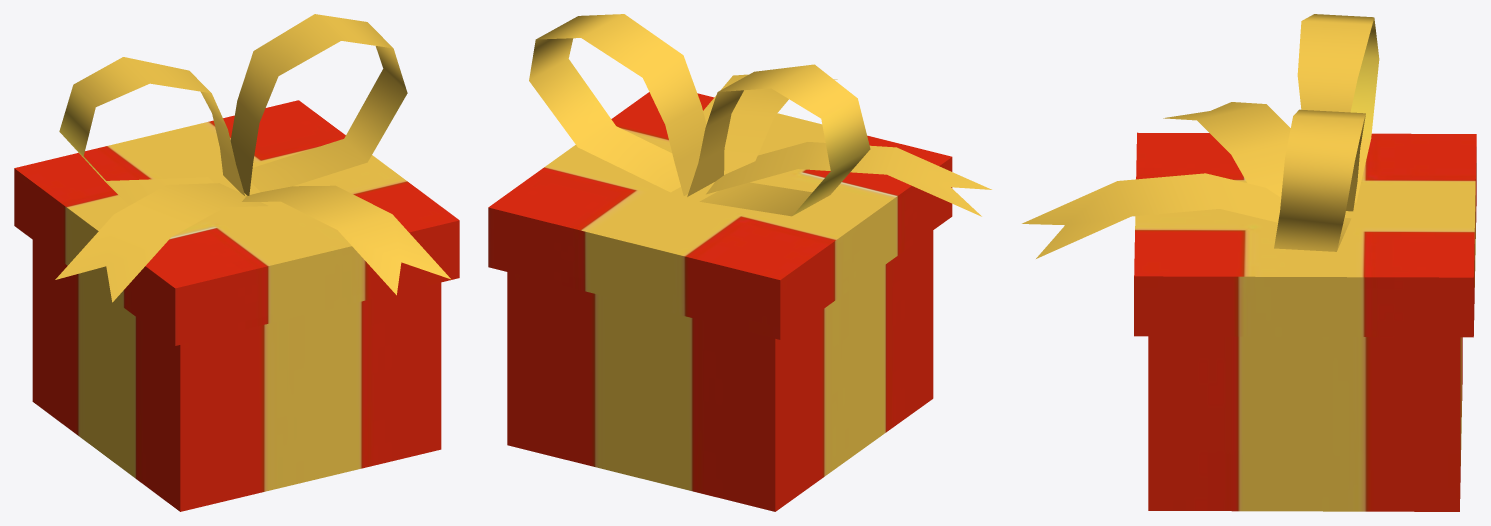
File: pm-present-01.glb
3 renders of one model, left to right at view 1: azimuth 30°, elevation 25°; view 2: azimuth 150°, elevation 25°; view 3: azimuth 270°, elevation 25°, orthographic. The views are drawn at different scales.
Visible parts, largest first — view 1: Present01; view 2: Present01; view 3: Present01.
Boxes of the visible parts, <box> form: Present01: <box>14,14,459,511</box>; Present01: <box>488,14,991,511</box>; Present01: <box>1022,14,1476,511</box>.
Bounding box in the file's own units: 1.21 × 1.1 × 1.2.
1 material, 1 textured.
